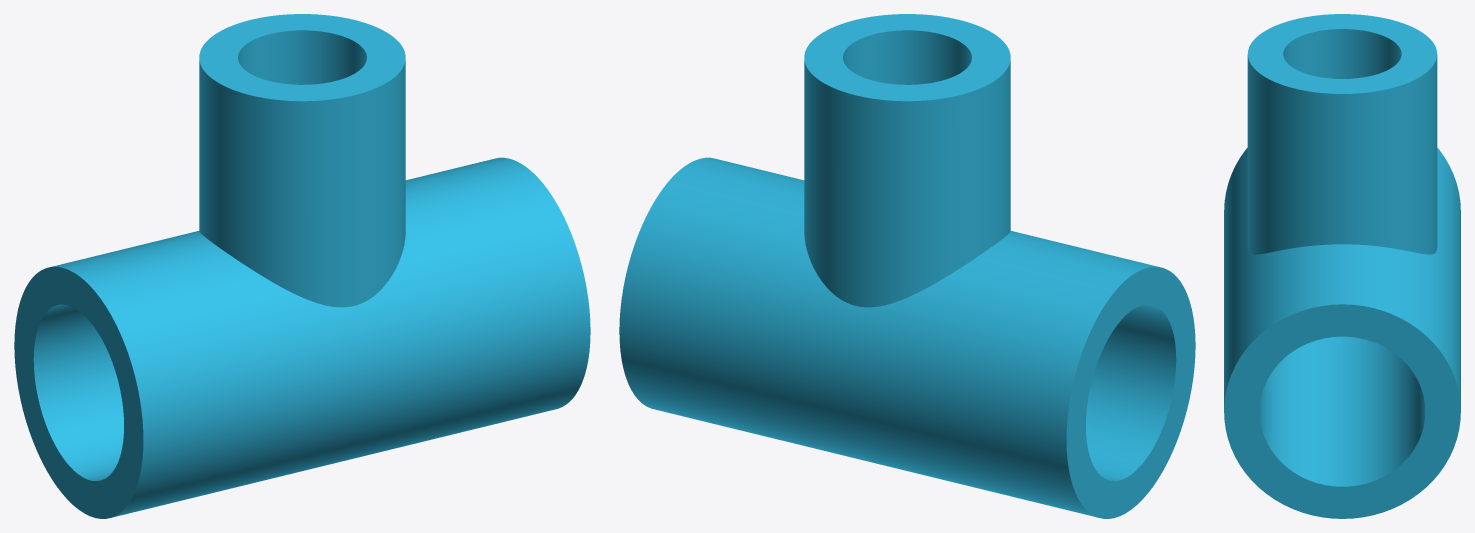
The model's file is demo.glb.
3 renders of one model, left to right at view 1: azimuth 30°, elevation 25°; view 2: azimuth 150°, elevation 25°; view 3: azimuth 270°, elevation 25°, orthographic. The views are drawn at different scales.
Visible parts, largest first — view 1: xgobj; view 2: xgobj; view 3: xgobj.
Part boxes in pixels (box(x1,y1,x2,y2)): xgobj: box(14, 14, 590, 518); xgobj: box(619, 14, 1195, 518); xgobj: box(1224, 14, 1460, 518).
Bounding box in the file's own units: 200 × 170 × 100.
